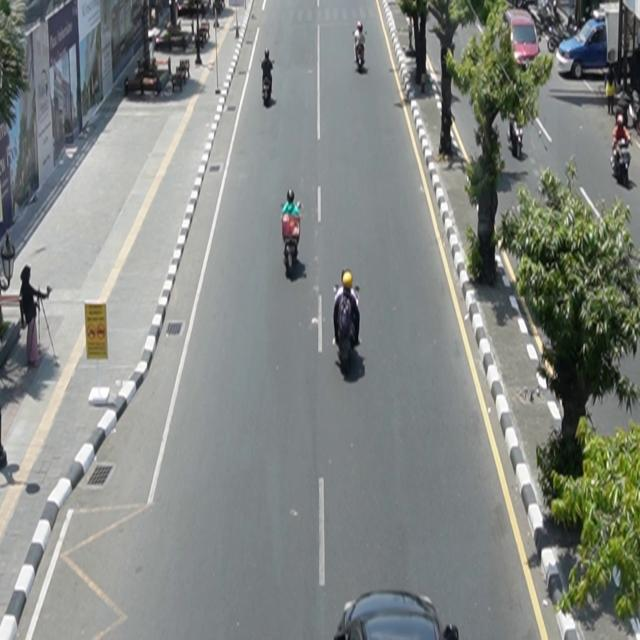car: (334, 590, 460, 640), (502, 9, 541, 71)
